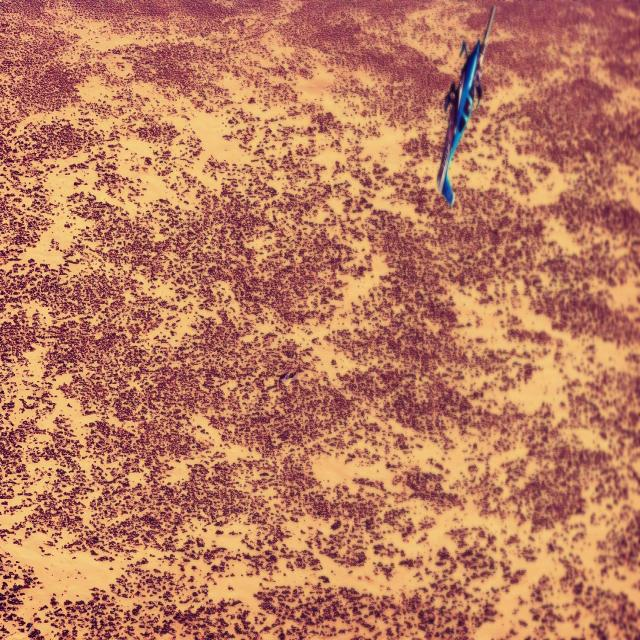airplane: (436, 4, 496, 207)
